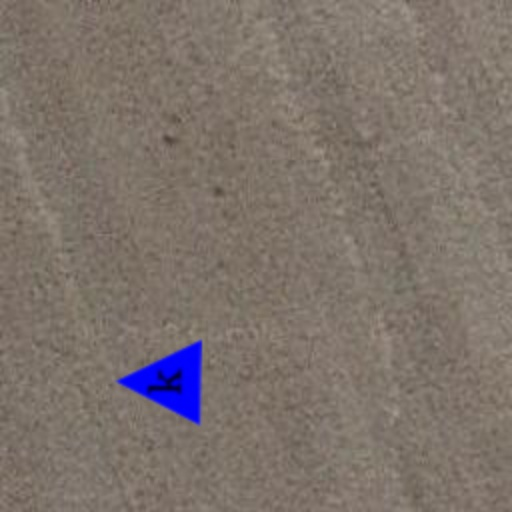triangle: (114, 338, 202, 426)
